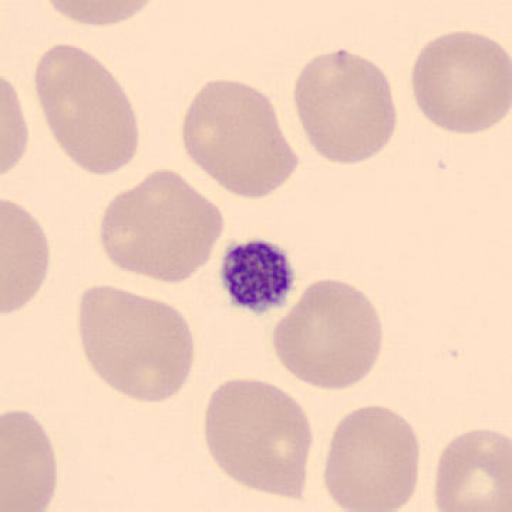Platelet: (218, 235, 297, 316)
RBC: (98, 168, 226, 283), (180, 78, 299, 200), (77, 283, 196, 405), (34, 44, 141, 178), (202, 377, 314, 499), (270, 278, 384, 392), (293, 46, 398, 166), (409, 29, 512, 136), (322, 403, 420, 512), (434, 427, 512, 512), (2, 198, 52, 314), (2, 409, 58, 512), (44, 0, 161, 27), (0, 77, 30, 178)
